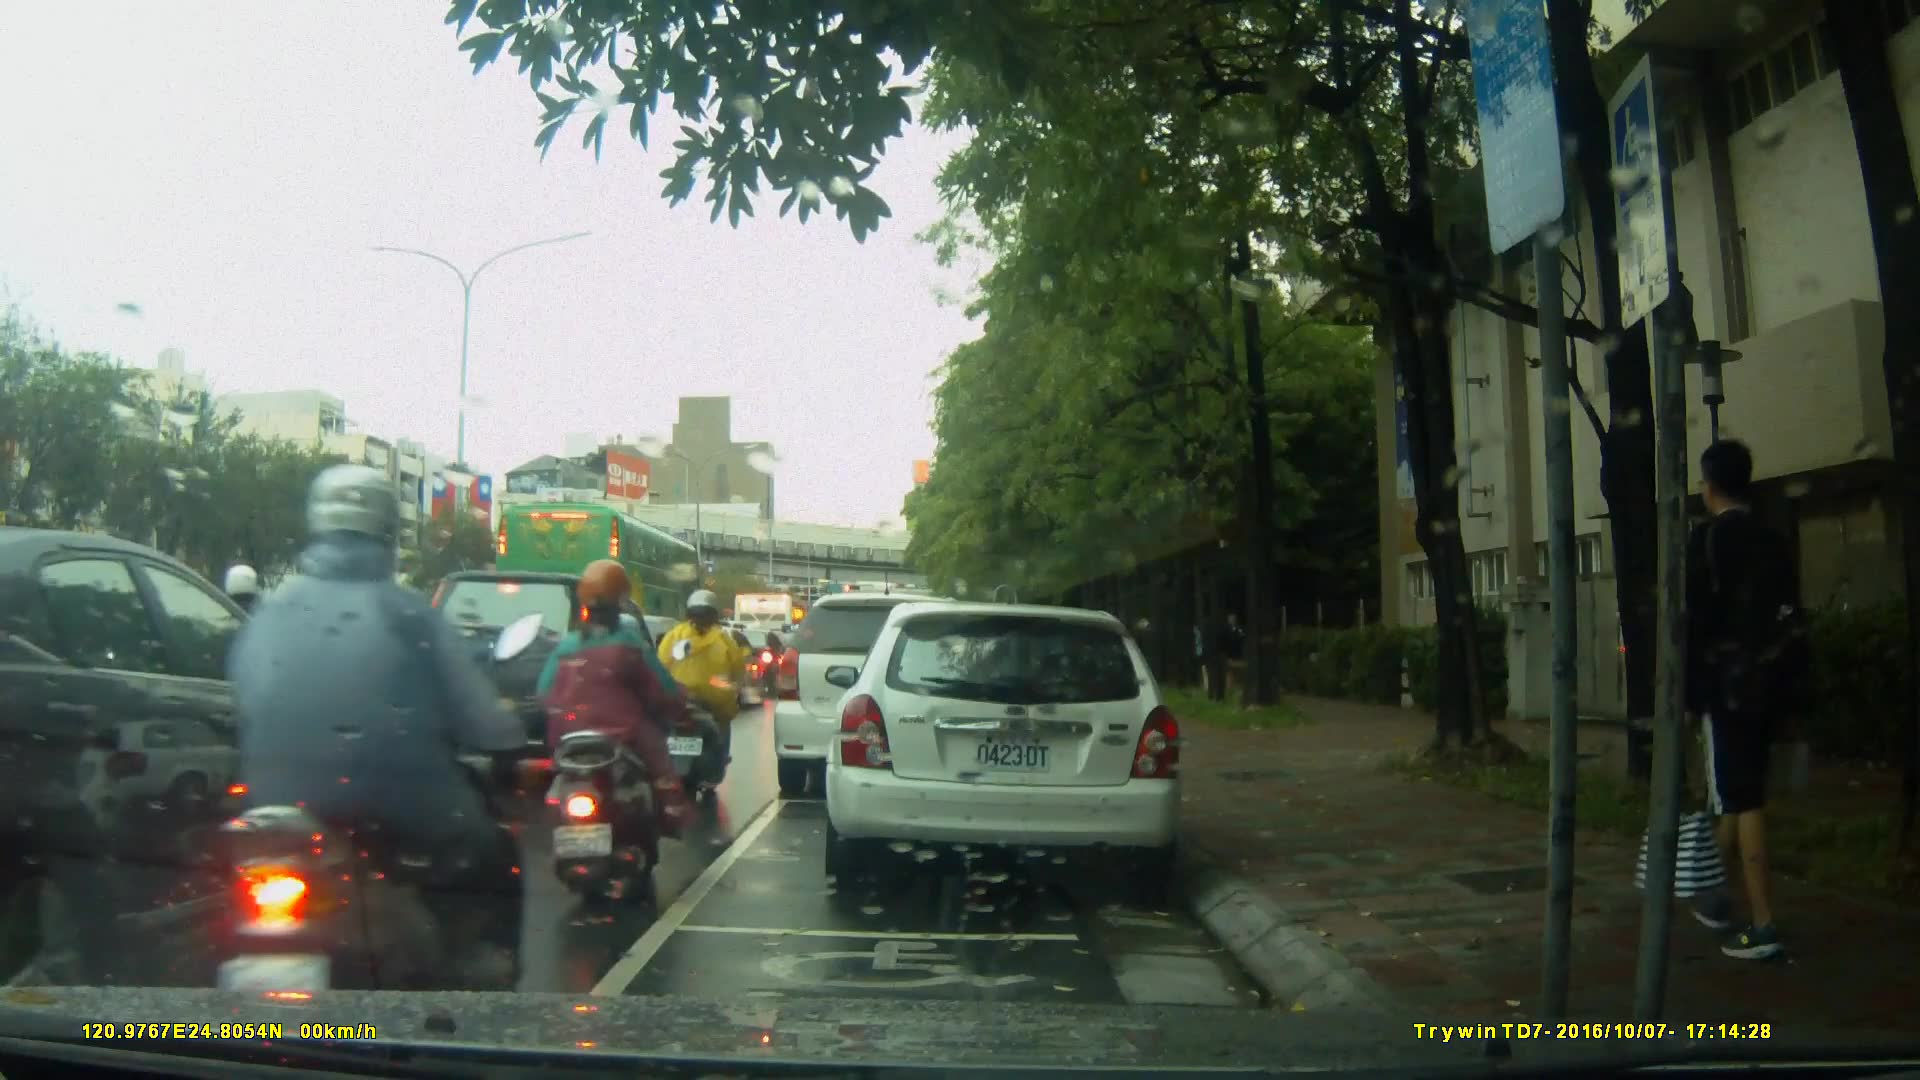pedestrian: (1632, 442, 1823, 978)
rider: (211, 460, 536, 1060), (536, 561, 675, 914), (202, 568, 312, 793), (659, 586, 752, 799)
vehicle: (6, 525, 401, 988), (831, 592, 1196, 897), (403, 567, 674, 796), (770, 592, 999, 800), (492, 499, 705, 658)
